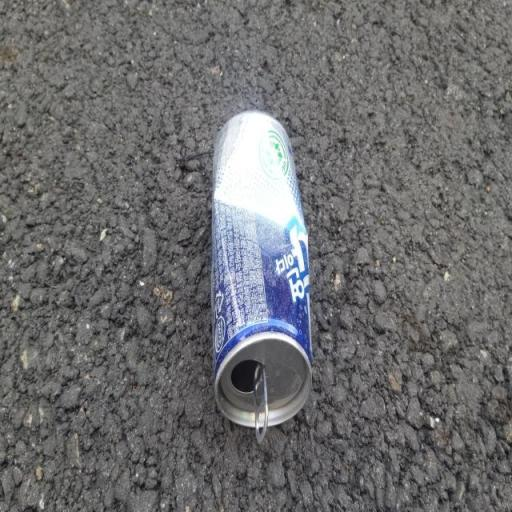metal: (176, 84, 346, 492)
